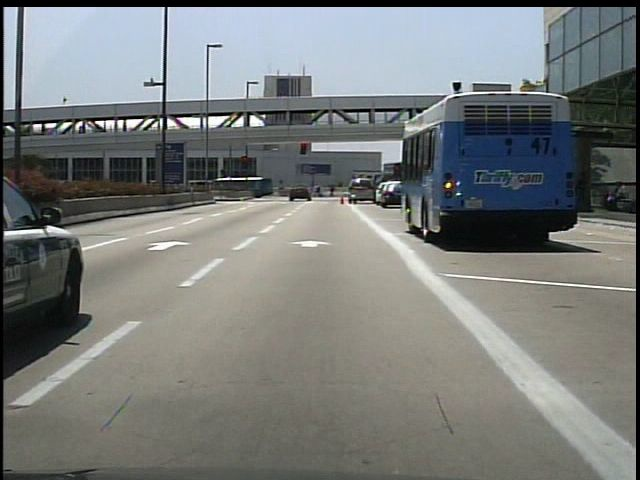person: (603, 180, 627, 211), (315, 184, 326, 198), (329, 183, 338, 198)
